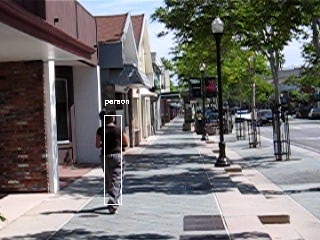person: (96, 111, 129, 218), (95, 111, 128, 218), (97, 111, 130, 218), (96, 110, 129, 217), (96, 112, 129, 219)
target_negative: (223, 93, 278, 207), (2, 62, 126, 92), (134, 125, 239, 155), (176, 186, 218, 234), (138, 147, 169, 206), (164, 61, 168, 106)
